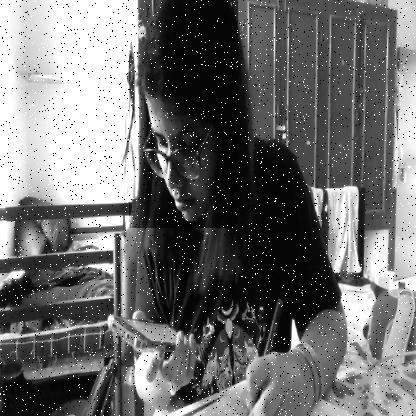Distracted: (129, 0, 238, 228)
